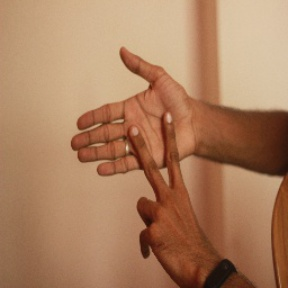N: (65, 43, 212, 247)
